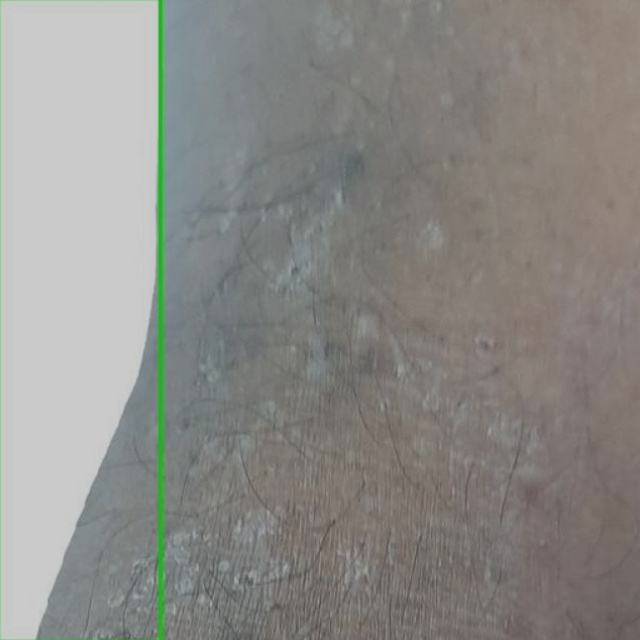Contact Dermatitis: (0, 0, 160, 639)
